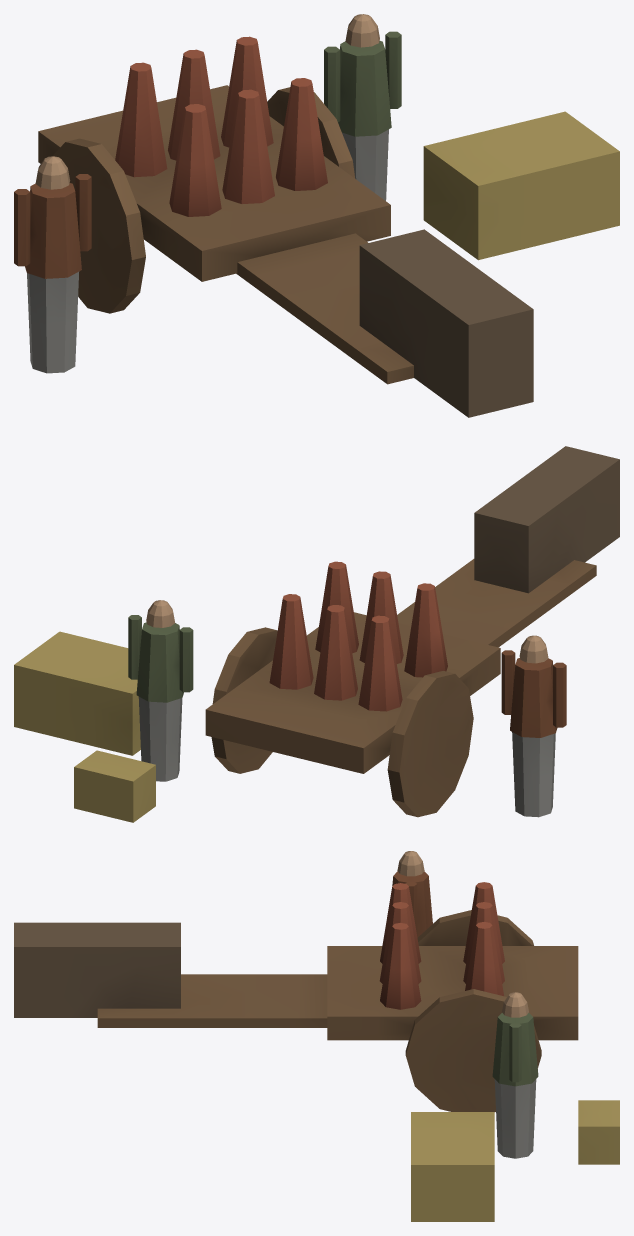
Rendered from cart.glb.
The picture shows the model from 3 angles, top to bottom: view 1: azimuth 30°, elevation 25°; view 2: azimuth 150°, elevation 25°; view 3: azimuth 270°, elevation 25°; orthographic projection. The views are drawn at different scales.
Visible parts, largest first — view 1: base; view 2: base; view 3: base.
Part boxes in pixels (bbox=[...]): base: bbox=[14, 14, 619, 417]; base: bbox=[14, 446, 619, 822]; base: bbox=[14, 851, 619, 1221].
Size of the model in its own units: 5.11 by 1.85 by 5.8.
